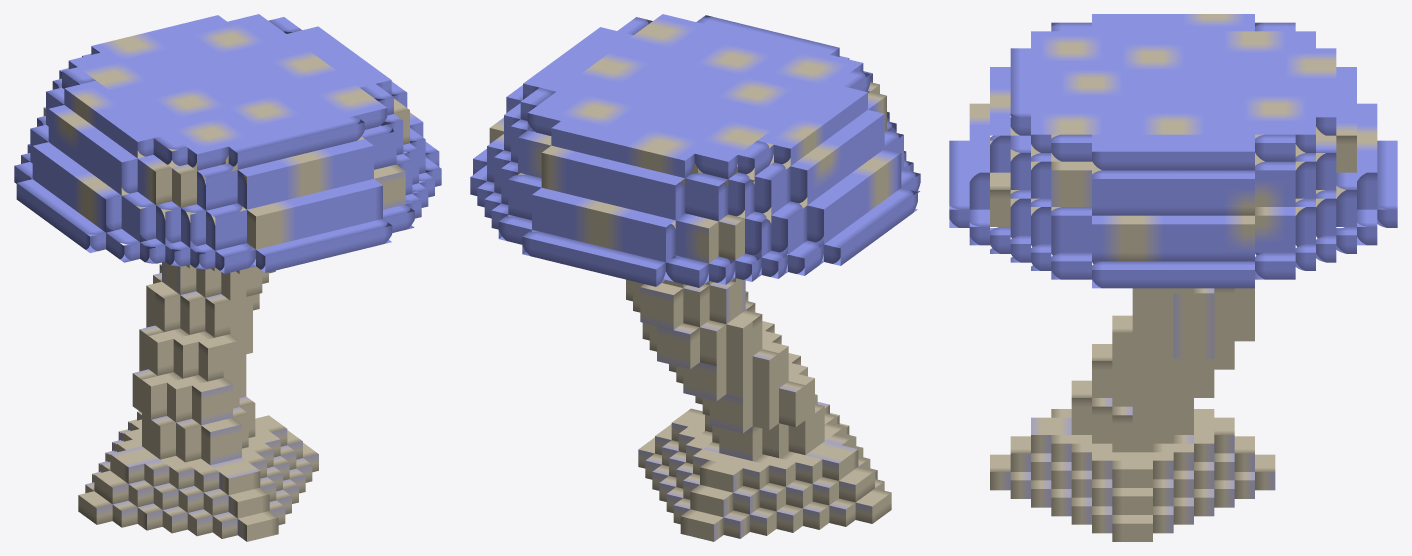
File: MushWood3.dae
3 views of the same model, side by side, from view 1: azimuth 30°, elevation 25°; view 2: azimuth 150°, elevation 25°; view 3: azimuth 270°, elevation 25° (orthographic). The views are drawn at different scales.
Parts seen in each view (by area): view 1: Node-local; view 2: Node-local; view 3: Node-local.
Boxes of the visible parts, left/top/right/bottom form: Node-local: left=14, top=14, right=441, bottom=541; Node-local: left=470, top=14, right=920, bottom=541; Node-local: left=949, top=14, right=1397, bottom=541.
Size of the model in its own units: 22 by 23 by 22.
